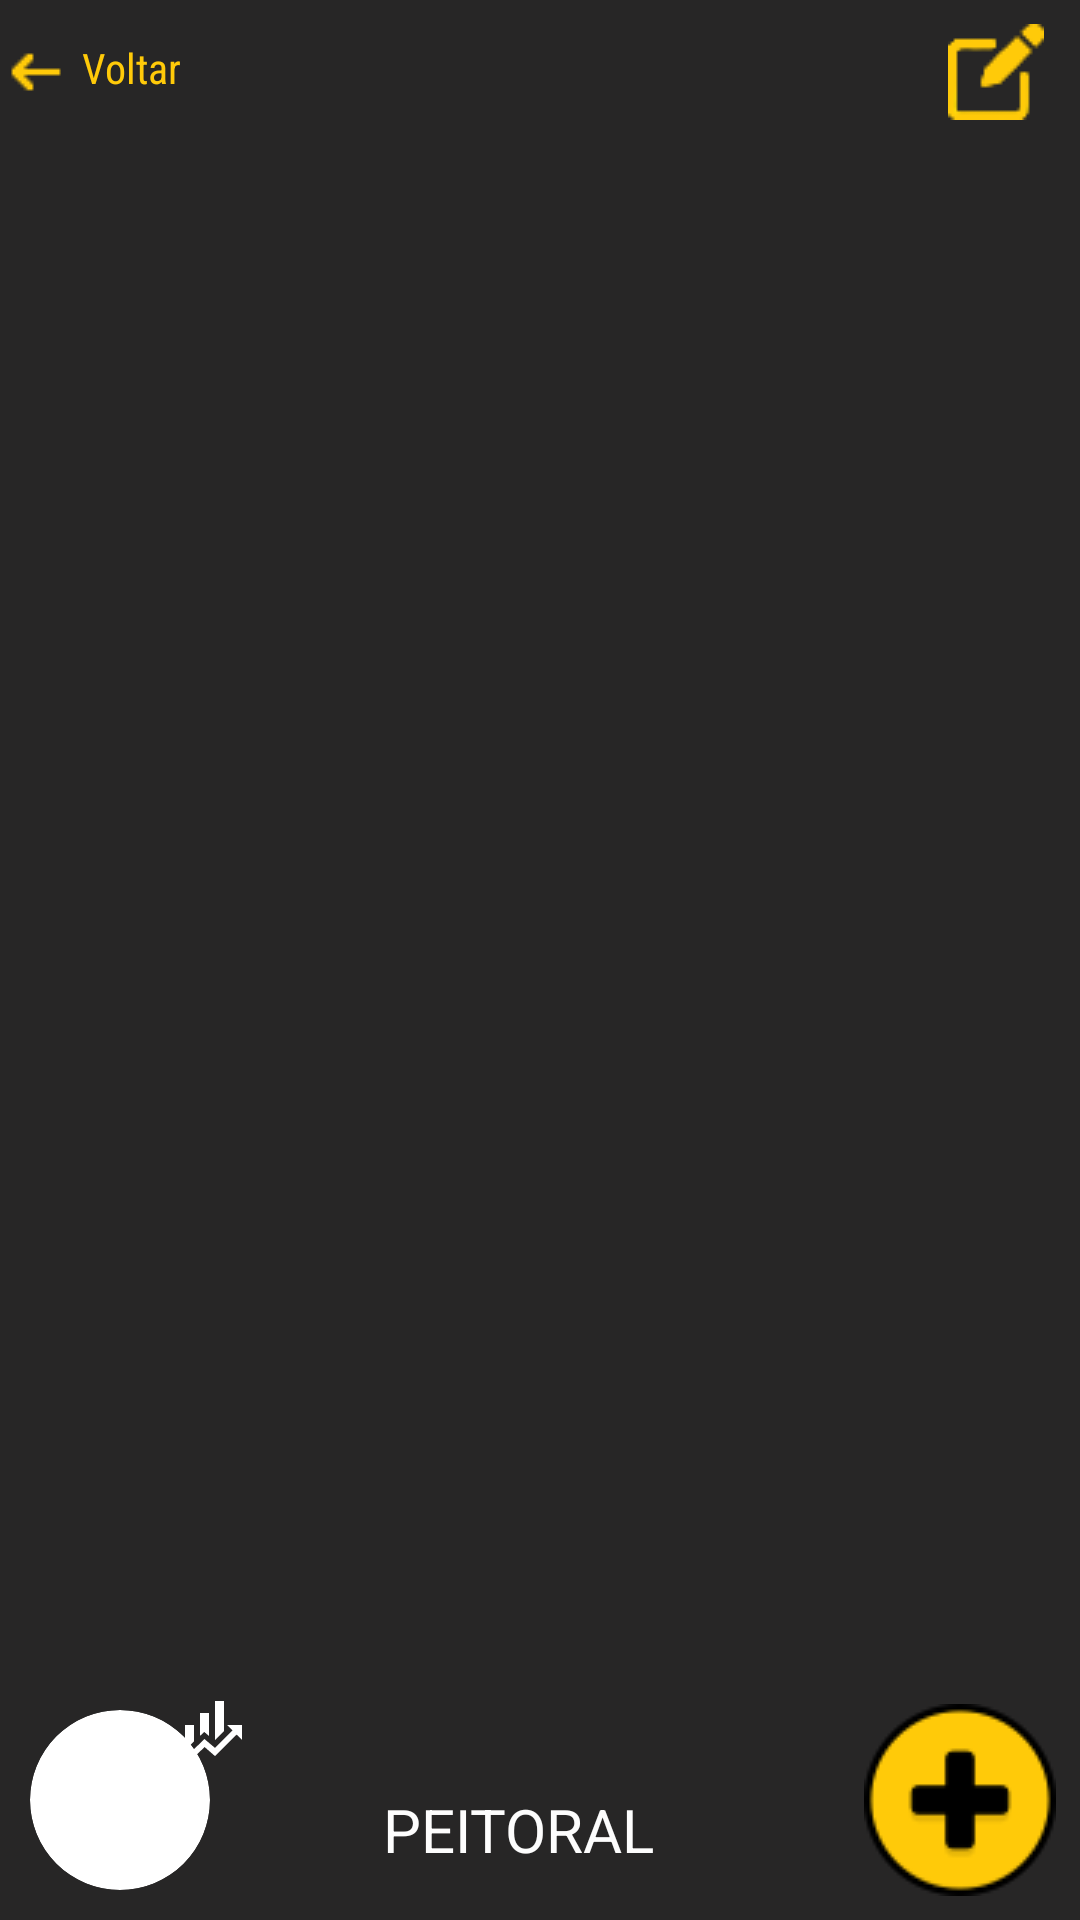

Point at icon controls on the screen. Image size 1080x1920, points as (x=x, y=y).
plus: (x=960, y=1800)
